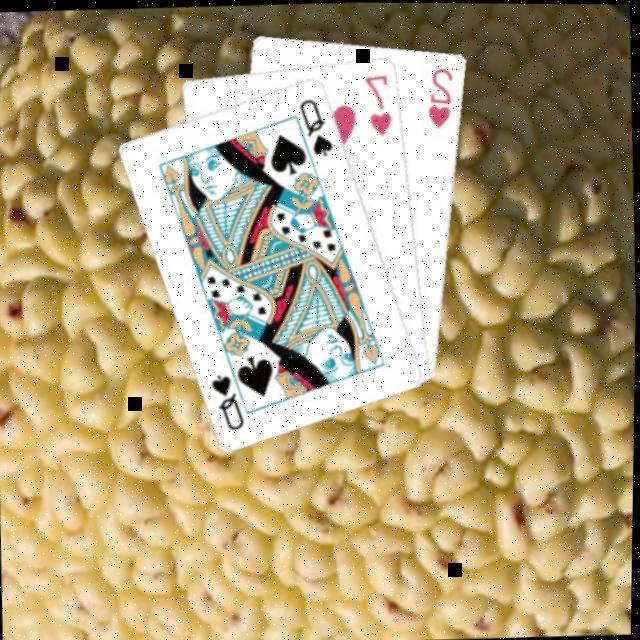2H: (421, 62, 456, 130)
7H: (359, 71, 394, 140)
QS: (293, 94, 336, 160), (205, 369, 248, 433)
